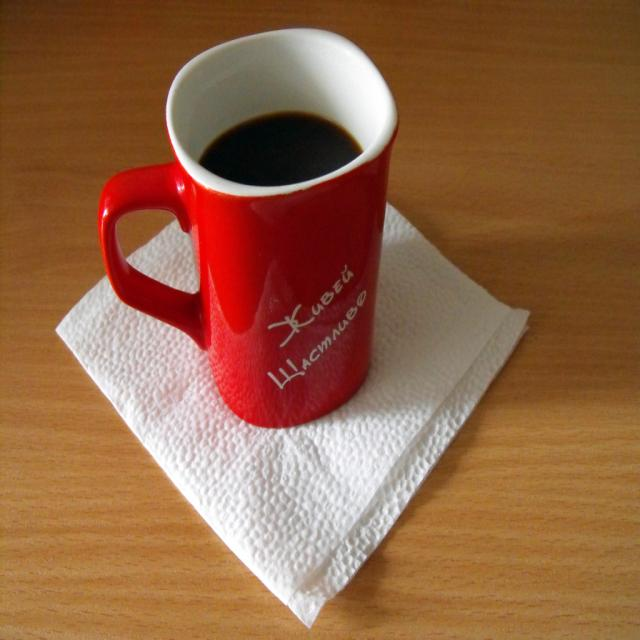Coffee: (98, 26, 393, 452)
Tea: (199, 112, 364, 186)
